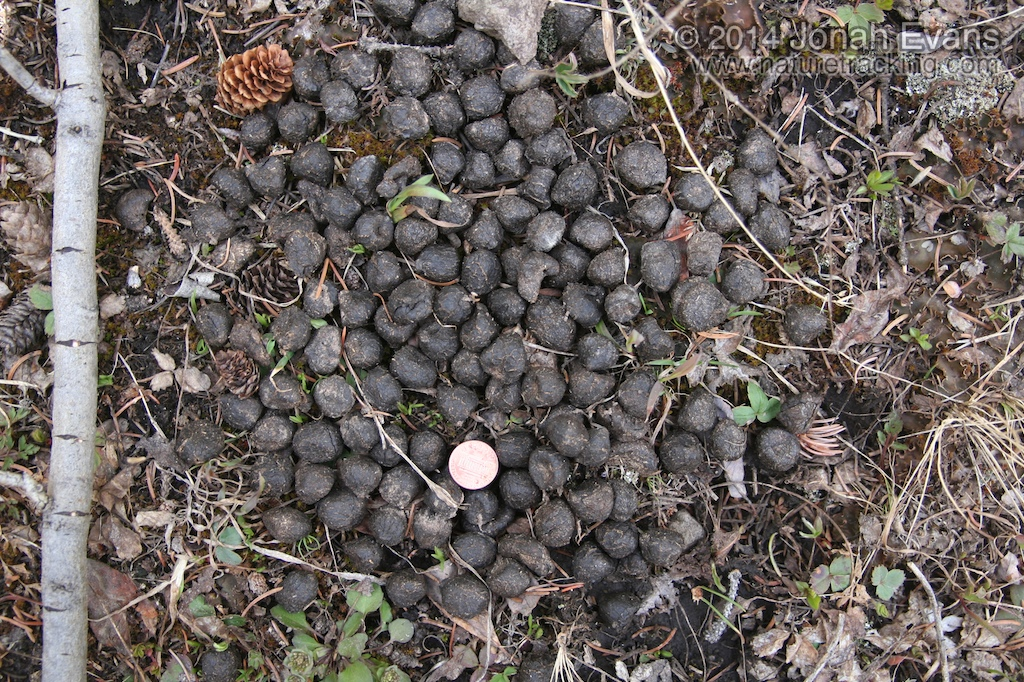Elk: (248, 45, 583, 573), (582, 124, 628, 531)
